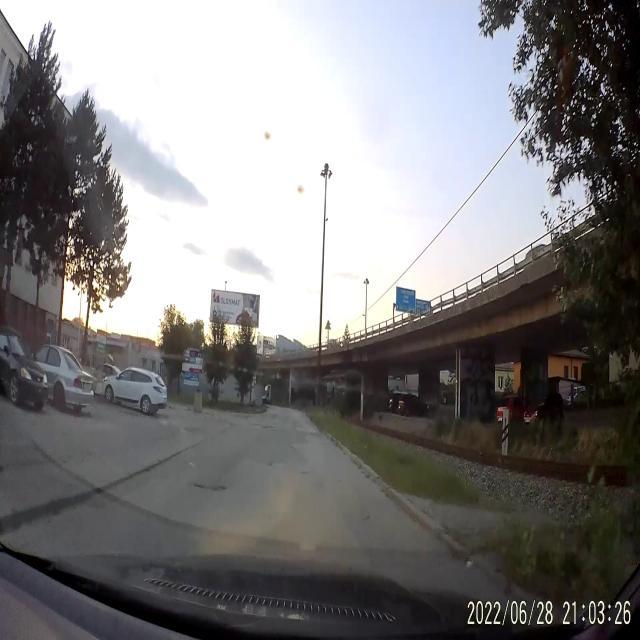Pothole: (190, 480, 227, 497), (260, 422, 277, 432), (360, 512, 372, 524), (266, 458, 276, 471), (300, 468, 312, 476)
